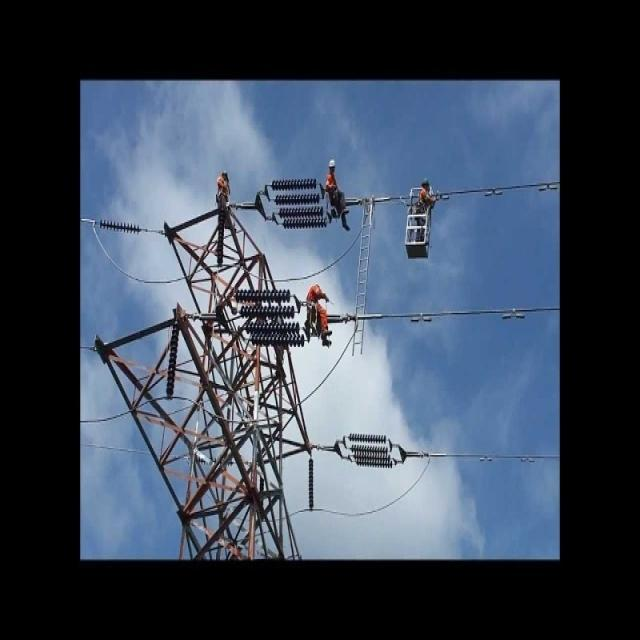non-critical vegetation: (169, 180, 313, 632)
